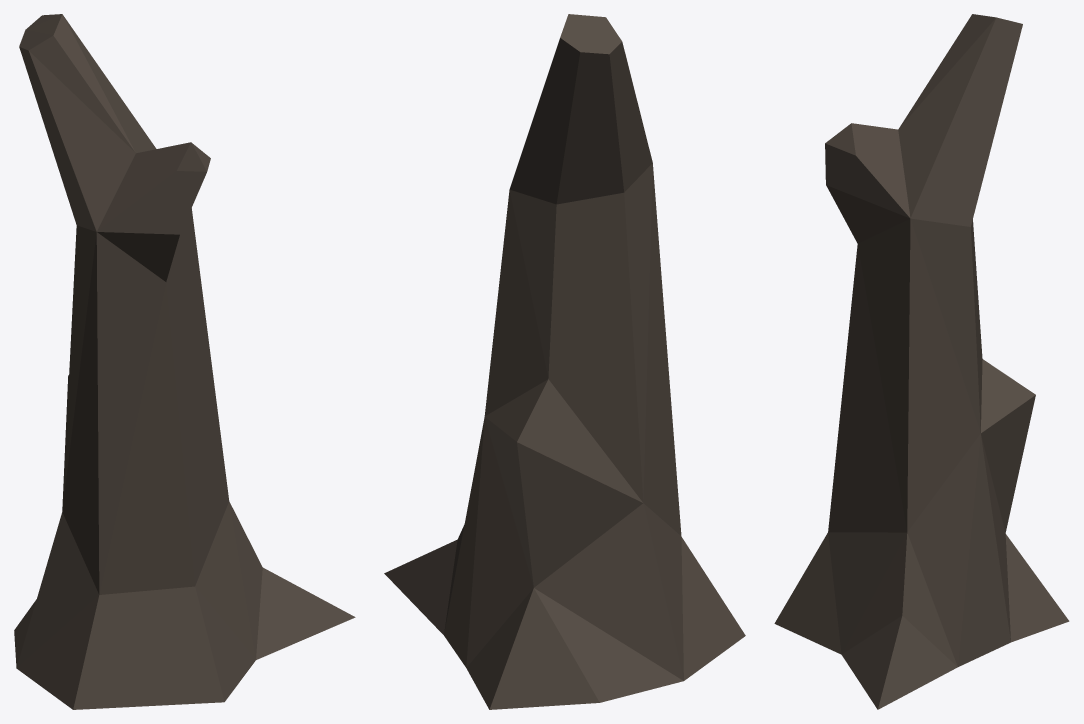
The model's file is Tree.fbx.
3 renders of one model, left to right at view 1: azimuth 30°, elevation 25°; view 2: azimuth 150°, elevation 25°; view 3: azimuth 270°, elevation 25°, orthographic. The views are drawn at different scales.
Parts seen in each view (by area): view 1: Tree; view 2: Tree; view 3: Tree.
Boxes of the visible parts, left/top/right/bottom form: Tree: left=14, top=14, right=355, bottom=709; Tree: left=384, top=14, right=745, bottom=709; Tree: left=774, top=14, right=1069, bottom=709.
Bounding box in the file's own units: 398 × 766 × 348.
